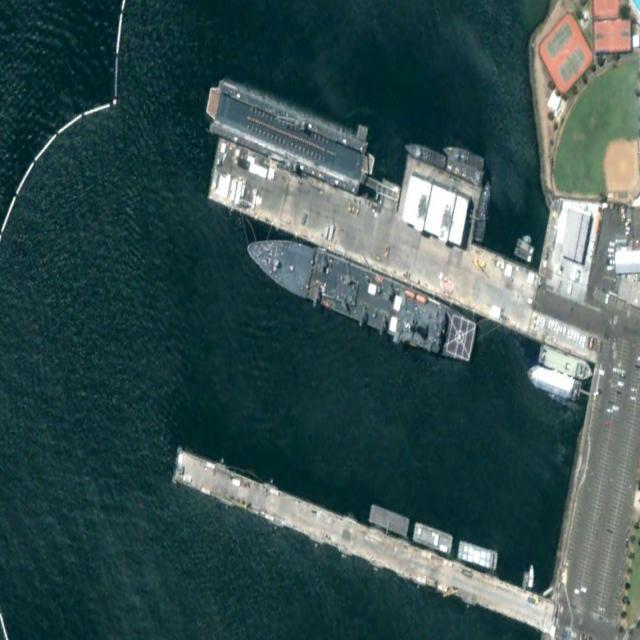Commander: (242, 221, 479, 368)
Other Ship: (537, 343, 594, 387), (525, 360, 581, 403)
Other Warship: (442, 139, 485, 173), (403, 138, 447, 170), (474, 179, 493, 245)
